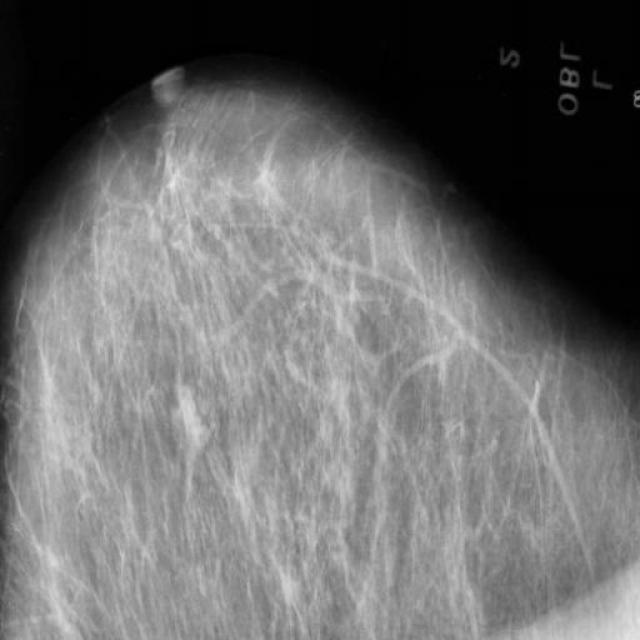cancer: (161, 184, 223, 264)
